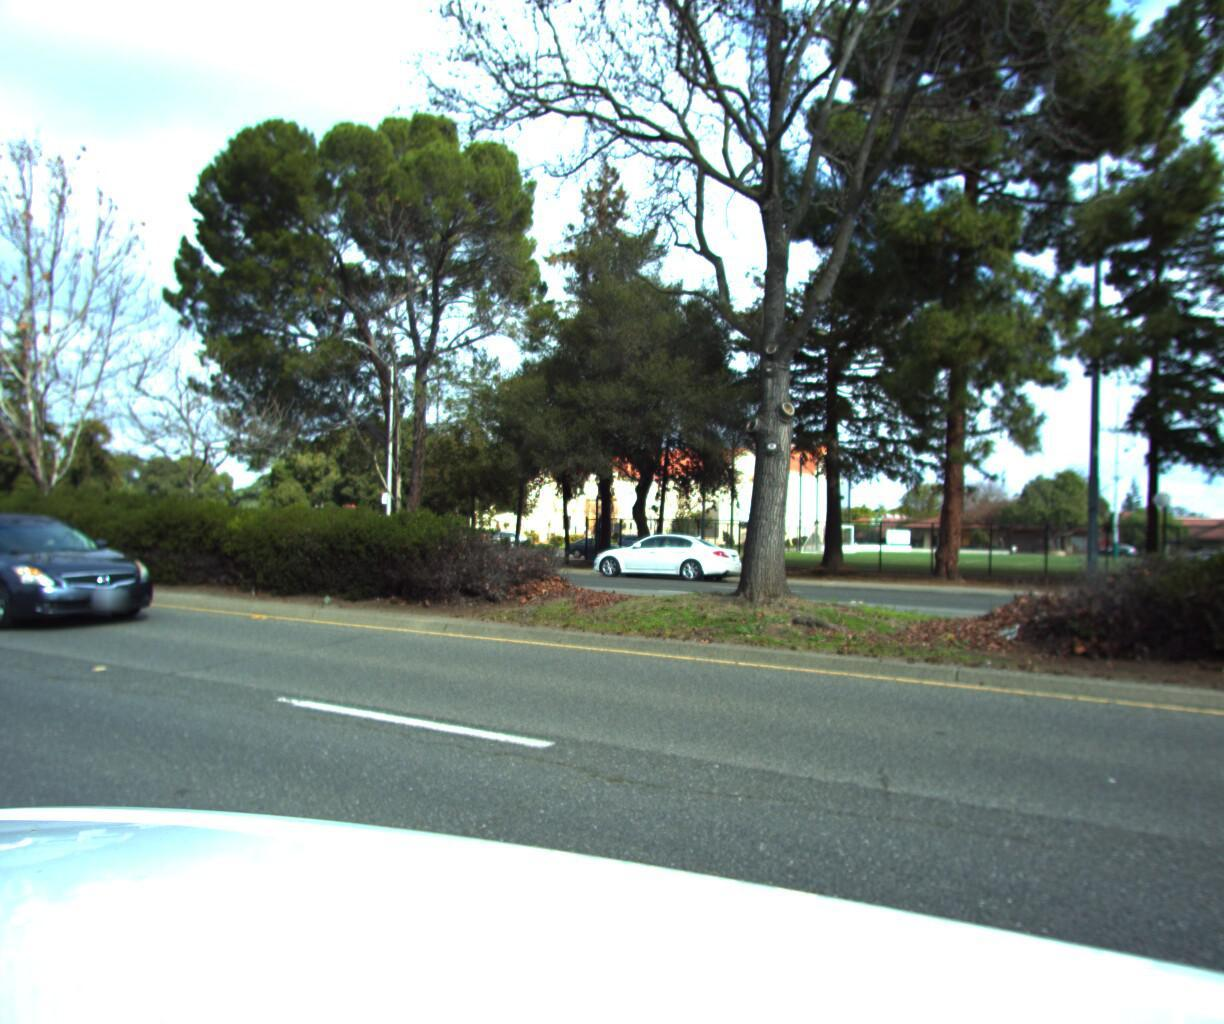car: (0, 509, 173, 640), (586, 526, 749, 580), (1133, 524, 1224, 613)
